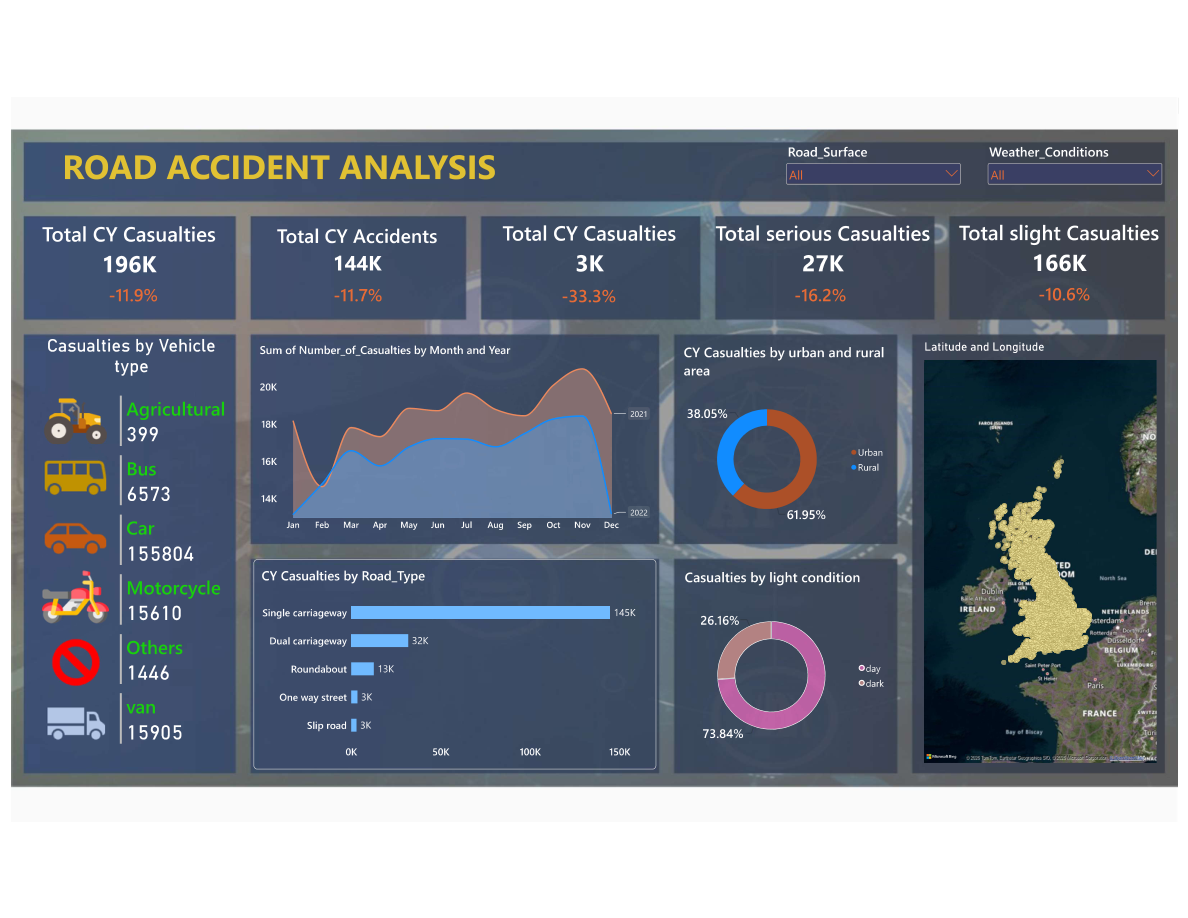

What the dashboard file says about the page in this screenshot:
{"tool":"tableau","page":{"name":"Dashboard 1","canvas":[1600,900],"ordinal":0},"visuals":[{"type":"image","param":"Image/background tableau.jpg","box":[8,8,1584,884]},{"type":"parameter","param":"[Parameters].[Parameter 0740850898325505]","box":[1000,35,184,71]},{"type":"parameter","param":"[Parameters].[current year (copy)_0740850899378178]","box":[1184,35,184,71]},{"type":"parameter","param":"[Parameters].[Parameter 1074554071289856]","box":[1368,35,184,71]},{"type":"text","box":[40,37,815,73]},{"type":"text","box":[490,136,533,30]},{"type":"worksheet","title":"Total accidents","mark":"Automatic","box":[44,140,413,119]},{"type":"worksheet","title":"Vehicle type images","mark":"Shape","box":[496,160,1050,41]},{"type":"worksheet","title":"Vehicle type KPI","mark":"Automatic","box":[496,201,1050,59]},{"type":"worksheet","title":"Total casualties","mark":"Automatic","box":[43,286,420,130]},{"type":"worksheet","title":"wheather condition","mark":"Pie","rows":["Calculation_1434094437011467","Calculation_1434094437031949"],"box":[486,288,314,276]},{"type":"worksheet","title":"Road surface","mark":"Pie","rows":["Calculation_1434094437011467","Calculation_1434094437031949"],"box":[826,288,302,277]},{"type":"worksheet","title":"By location","mark":"Automatic","rows":["Latitude"],"cols":["Longitude"],"box":[1155,290,398,574]},{"type":"worksheet","title":"Fatal casualties","mark":"Automatic","box":[42,441,418,121]},{"type":"worksheet","title":"Road type","mark":"Automatic","rows":["Road_Type"],"cols":["Calculation_0740850922016777"],"box":[488,586,638,280]},{"type":"worksheet","title":"serious casualties","mark":"Automatic","box":[42,590,421,125]},{"type":"worksheet","title":"Slight casualties ","mark":"Automatic","box":[41,738,422,130]}]}

Visuals, with their boxes on the page's 1600x900 design canvas (x1, y1, x2, y2). These are canvas units, not pixel positions in the 1188x918 screenshot, which may show the page scaled, cropped or inside an application window:
image: bbox(8, 8, 1592, 892)
parameter: bbox(1000, 35, 1184, 106)
parameter: bbox(1184, 35, 1368, 106)
parameter: bbox(1368, 35, 1552, 106)
text: bbox(40, 37, 855, 110)
text: bbox(490, 136, 1023, 166)
"Total accidents" worksheet: bbox(44, 140, 457, 259)
"Vehicle type images" worksheet (Shape marks): bbox(496, 160, 1546, 201)
"Vehicle type KPI" worksheet: bbox(496, 201, 1546, 260)
"Total casualties" worksheet: bbox(43, 286, 463, 416)
"wheather condition" worksheet (Pie marks): bbox(486, 288, 800, 564)
"Road surface" worksheet (Pie marks): bbox(826, 288, 1128, 565)
"By location" worksheet: bbox(1155, 290, 1553, 864)
"Fatal casualties" worksheet: bbox(42, 441, 460, 562)
"Road type" worksheet: bbox(488, 586, 1126, 866)
"serious casualties" worksheet: bbox(42, 590, 463, 715)
"Slight casualties " worksheet: bbox(41, 738, 463, 868)
